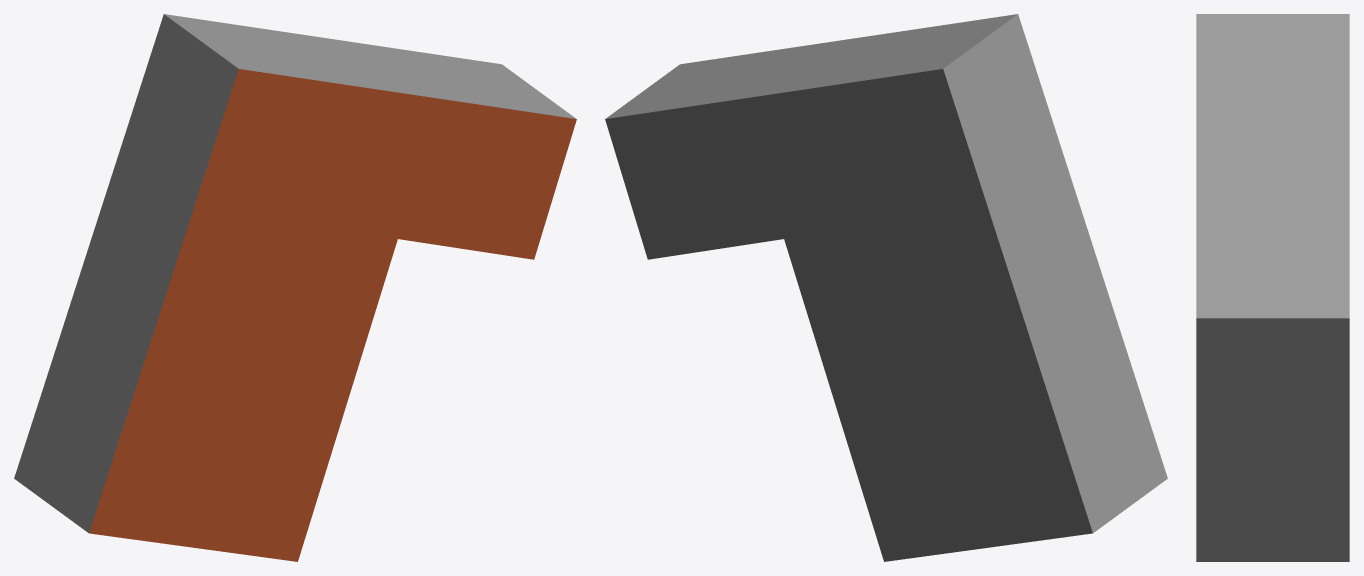
The model's file is construction_2490_assumed_A_Casa_h6m.obj.
3 views of the same model, side by side, from view 1: azimuth 30°, elevation 25°; view 2: azimuth 150°, elevation 25°; view 3: azimuth 270°, elevation 25° (orthographic). The views are drawn at different scales.
Parts seen in each view (by area): view 1: construction_2490_assumed_A_Casa; view 2: construction_2490_assumed_A_Casa; view 3: construction_2490_assumed_A_Casa.
Part boxes in pixels (box(x1,y1,x2,y2)): construction_2490_assumed_A_Casa: box(14, 14, 576, 561); construction_2490_assumed_A_Casa: box(605, 14, 1167, 561); construction_2490_assumed_A_Casa: box(1196, 14, 1349, 561).
Bounding box in the file's own units: 22.55 × 22.42 × 6.
